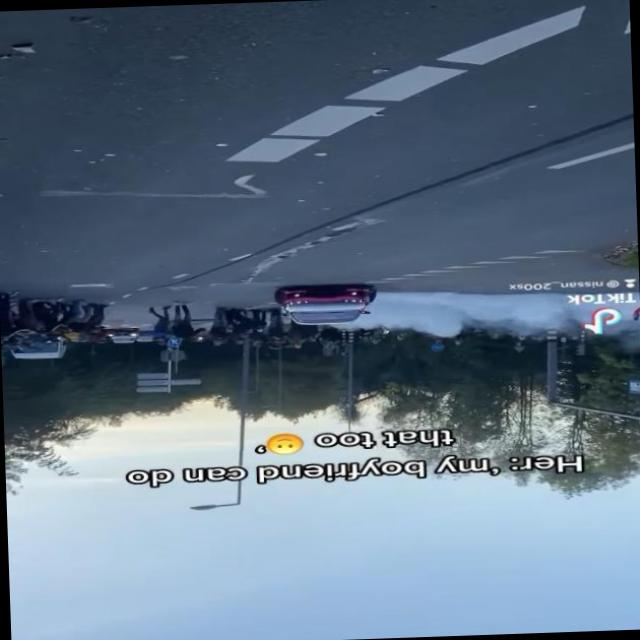car: (270, 280, 368, 329)
